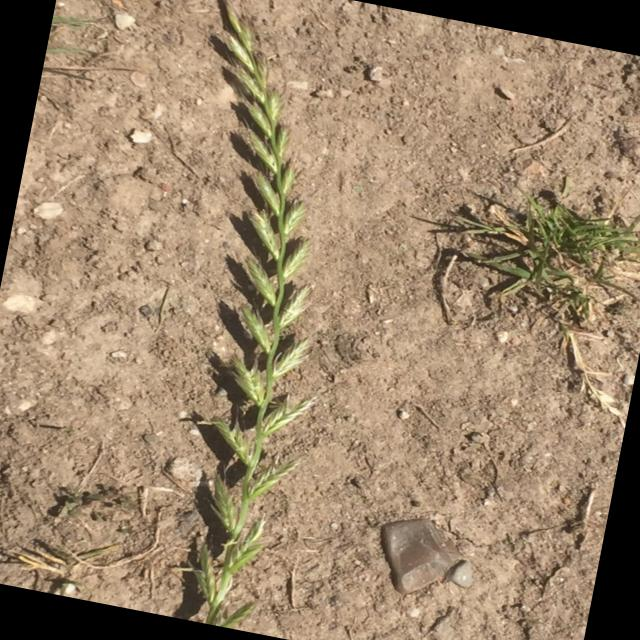Lolium: (93, 0, 393, 634)
